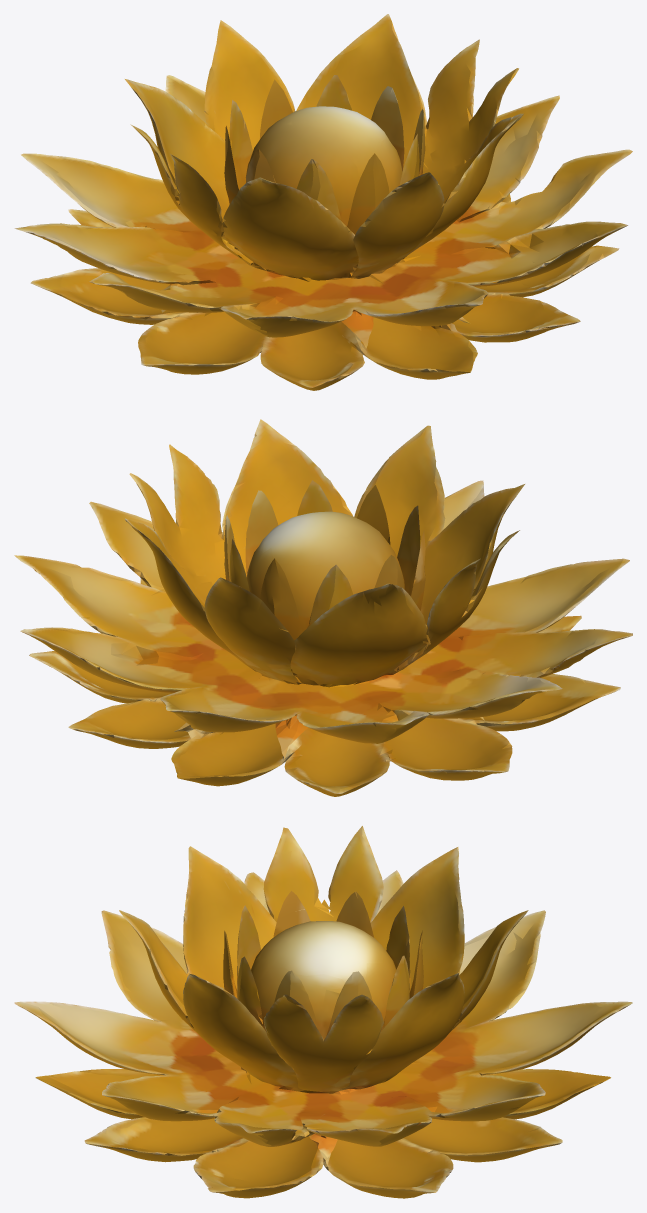
File: india_lotus.glb
3 views of the same model, one above another, from view 1: azimuth 30°, elevation 25°; view 2: azimuth 150°, elevation 25°; view 3: azimuth 270°, elevation 25° (orthographic).
Visible parts, largest first — view 1: india_lotus; view 2: india_lotus; view 3: india_lotus.
Boxes of the visible parts, x1,y1,x2,y2 form: india_lotus: (14,14,632,390); india_lotus: (14,419,632,796); india_lotus: (14,826,632,1198).
Bounding box in the file's own units: 1.9 × 0.6973 × 1.89.
Materials: 1 (1 with a texture image).
